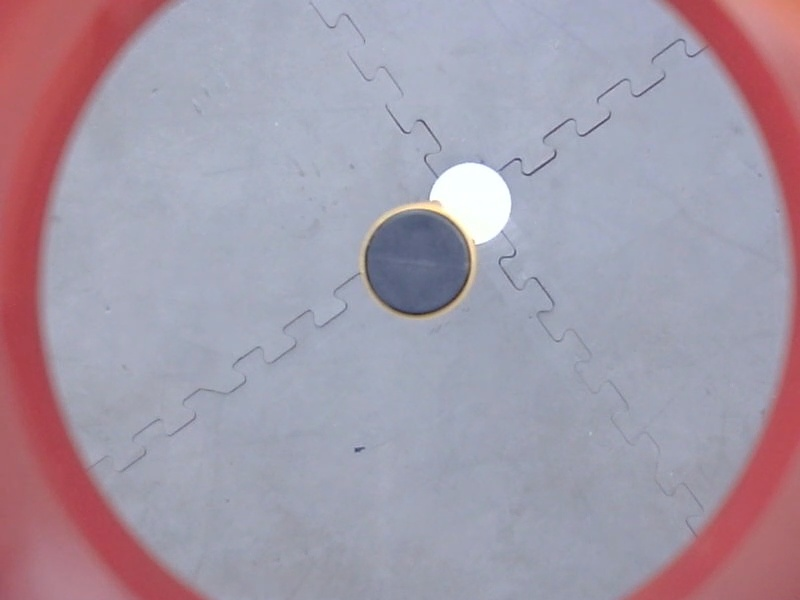tip: (353, 198, 480, 329)
